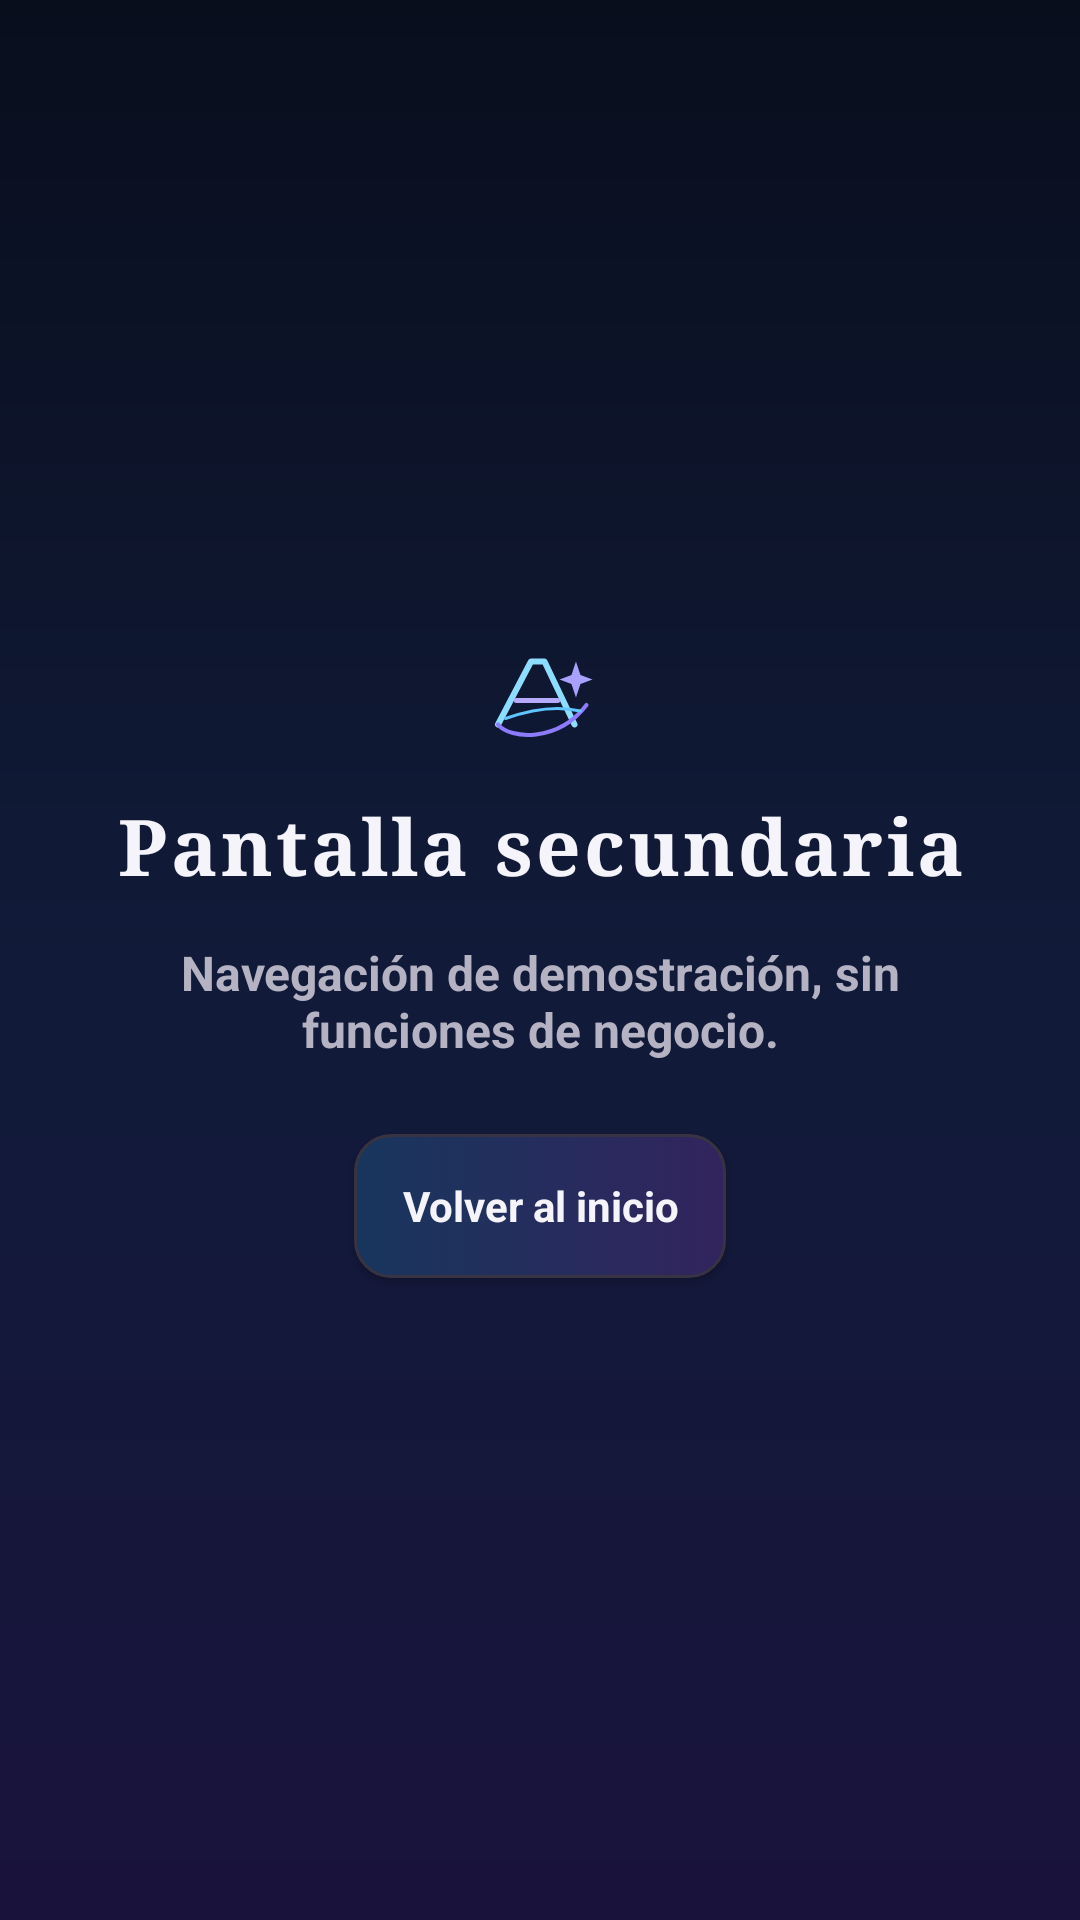

Where to tap for icons on this 1080w x 1920h app screen, as (x=x, y=y):
asterion crest: (x=544, y=697)
